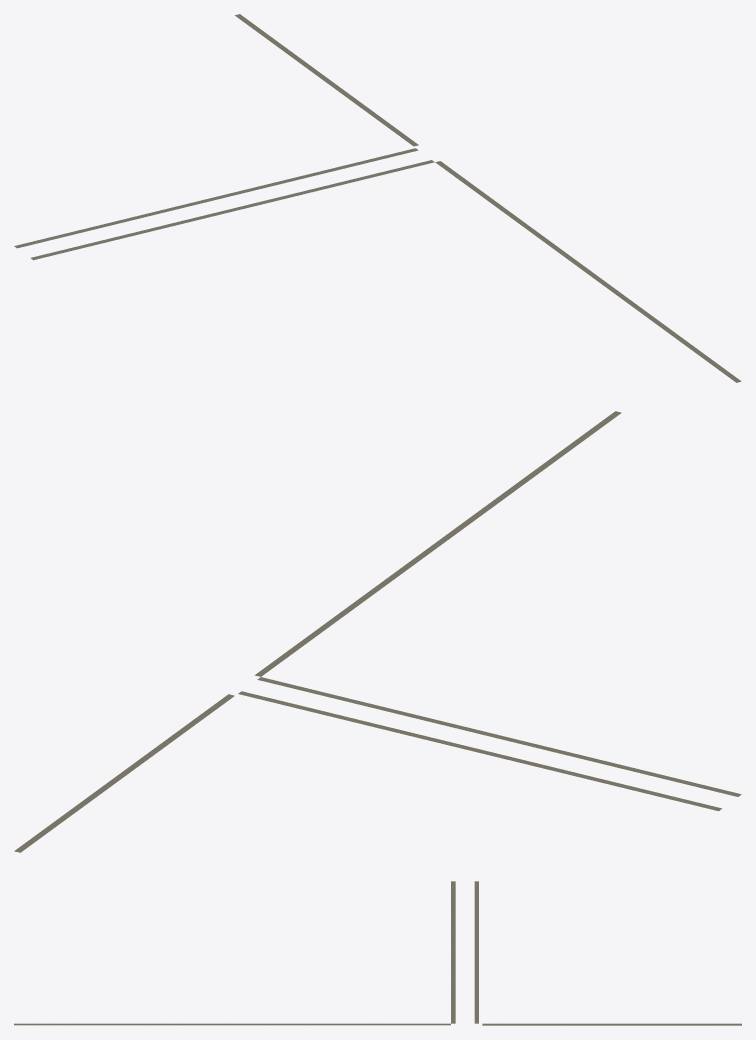
Rendered from grouped_sidewalk.glb.
The picture shows the model from 3 angles, top to bottom: view 1: azimuth 30°, elevation 25°; view 2: azimuth 150°, elevation 25°; view 3: azimuth 270°, elevation 25°; orthographic projection. The views are drawn at different scales.
Parts seen in each view (by area): view 1: sidewalk_left.001, sidewalk_right, sidewalk_left, sidewalk_left.002; view 2: sidewalk_left.001, sidewalk_left, sidewalk_right, sidewalk_left.002; view 3: sidewalk_left.001, sidewalk_left.002, sidewalk_left, sidewalk_right.
Boxes of the visible parts, x1,y1,x2,y2 form: sidewalk_left.001: (435,161,741,382); sidewalk_right: (14,148,418,248); sidewalk_left: (30,160,434,260); sidewalk_left.002: (235,14,418,146); sidewalk_left.001: (254,411,621,676); sidewalk_left: (257,677,741,796); sidewalk_right: (238,691,722,811); sidewalk_left.002: (14,694,234,852); sidewalk_left.001: (14,1023,450,1025); sidewalk_left.002: (482,1023,741,1025); sidewalk_left: (451,881,455,1023); sidewalk_right: (474,881,478,1023).
Size of the model in its own units: 223 by 0 by 476.
Materials: 1 (1 with a texture image).
